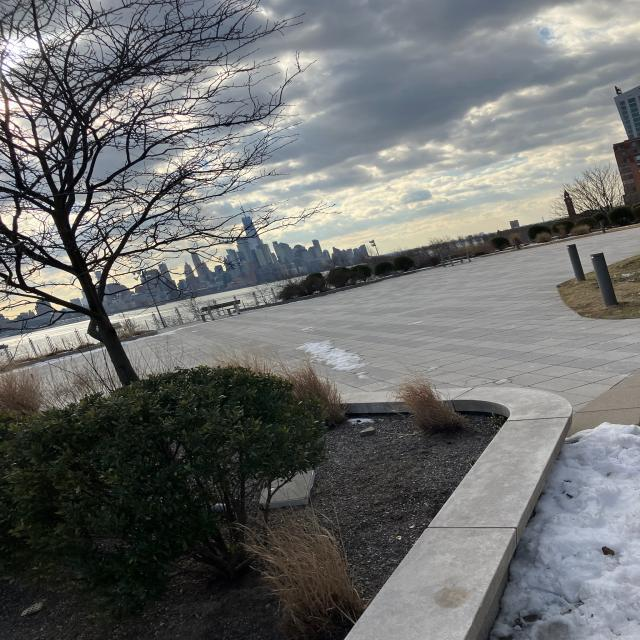WTC: (237, 200, 262, 248)
